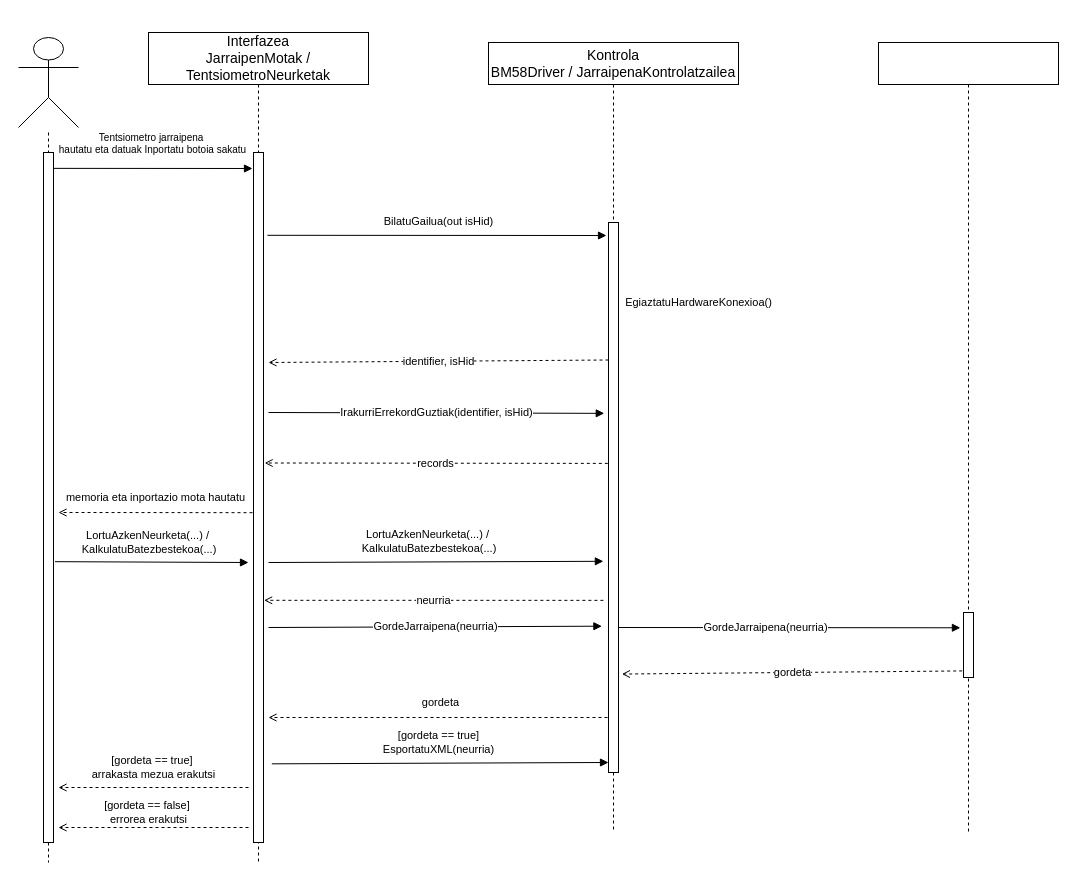
The diagram is 1076 pixels wide and 881 high, and some of its shapes have lost their labels. The centre of each missing label's shape, as x and y in pixels:
"Pazientea" belongs at point (48, 82).
"Repositorioa JarraipenaDB" belongs at point (968, 63).
